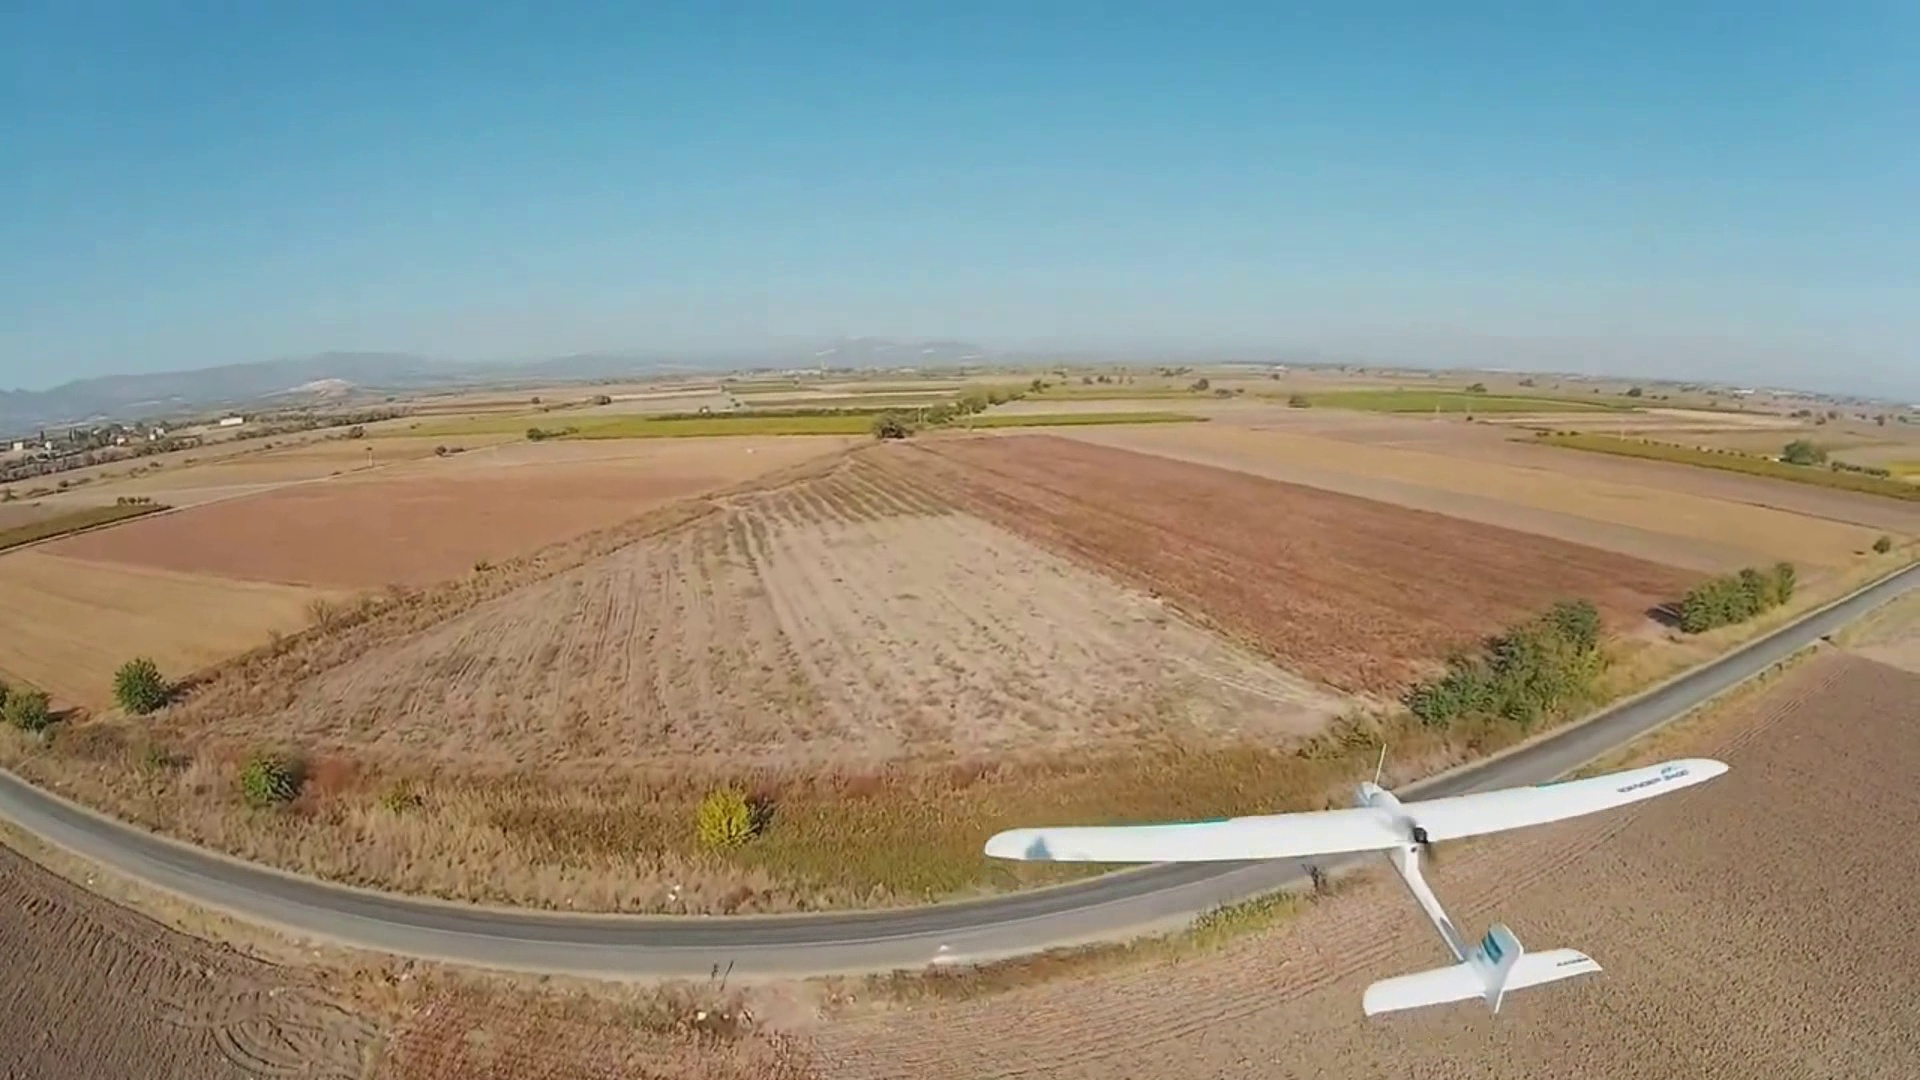airplane: (975, 553, 1917, 1015)
